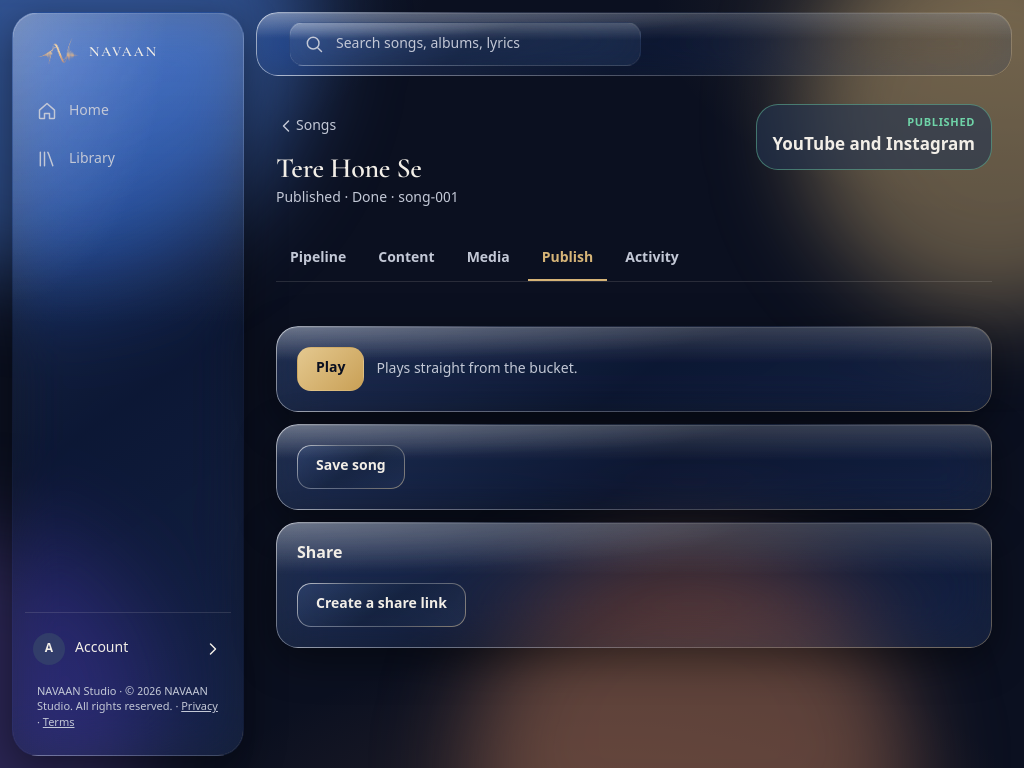
it: keeping a published song › saves it and adds it to a playlist, showing the server's message when it cannot
What coordinates should you click on to do the following:
click the button "Save song"
I would click on:
 (351, 467)
Its box is left=297, top=445, right=405, bottom=489.
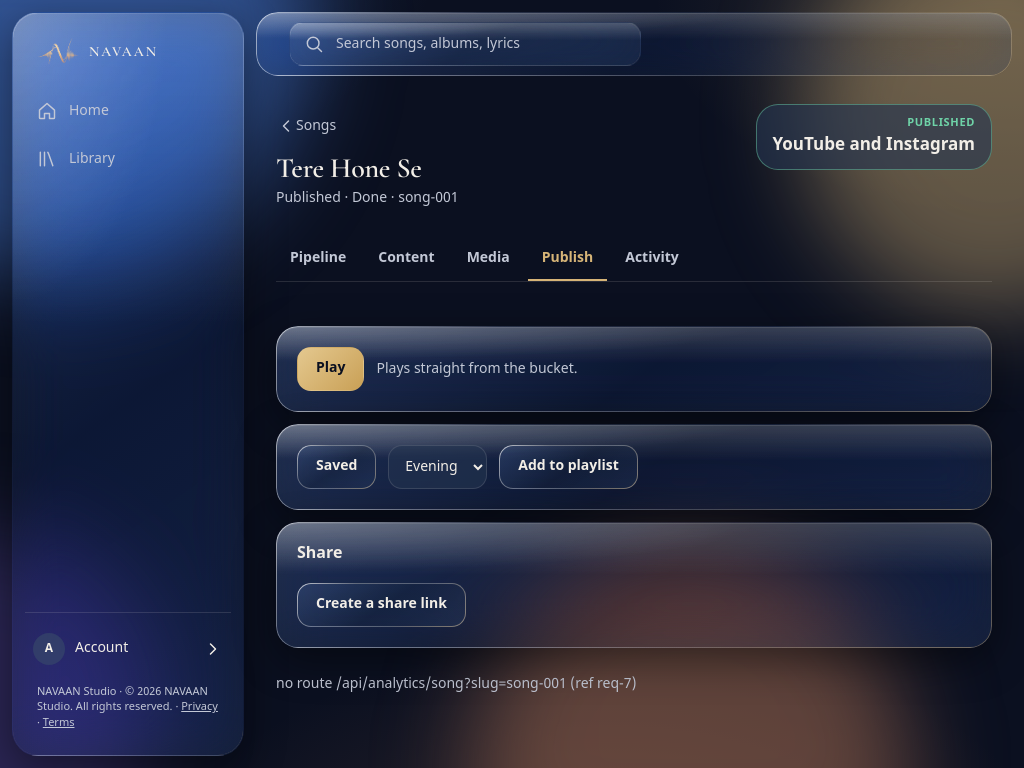
Result: the button "Saved" is shown at left=297, top=445, right=376, bottom=489
What coordinates should you click on to do the following:
click the button "Add to playlist"
I would click on:
 (569, 467)
Its box is left=499, top=445, right=638, bottom=489.
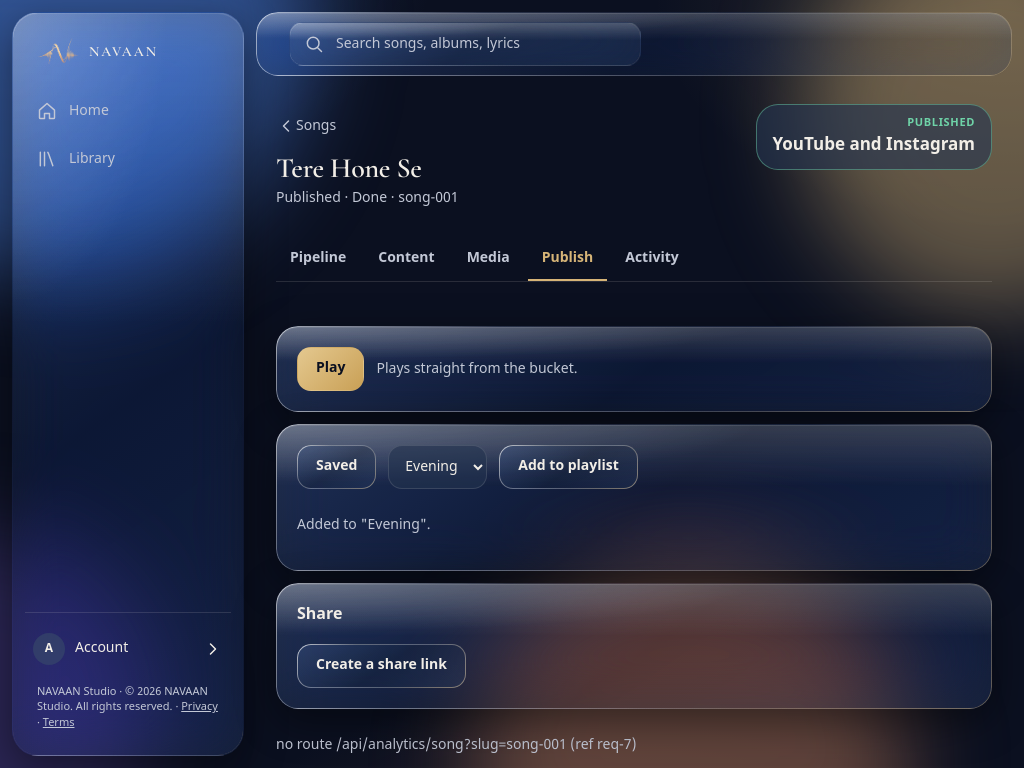
Result: the text "Added to \"Evening\"." is shown at left=297, top=516, right=431, bottom=535
What coordinates should you click on to do the following:
click the button "Add to playlist"
I would click on:
 (569, 467)
Its box is left=499, top=445, right=638, bottom=489.
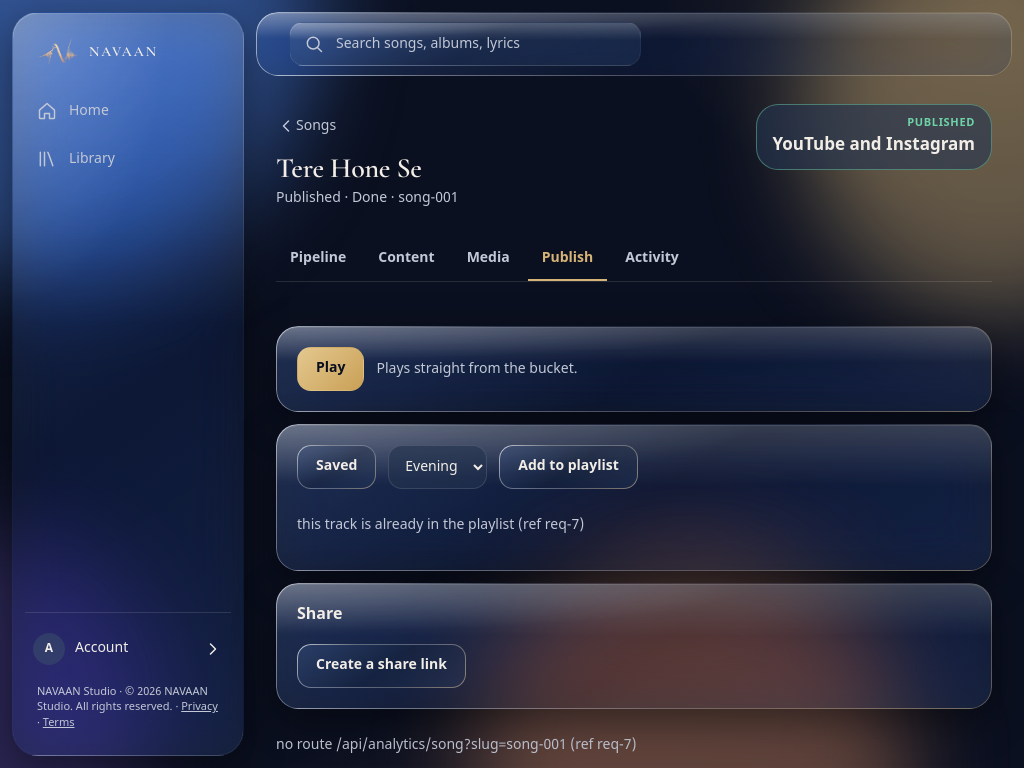
Result: the text "this track is already in the playlist (ref req-7)" is shown at left=297, top=516, right=584, bottom=535
